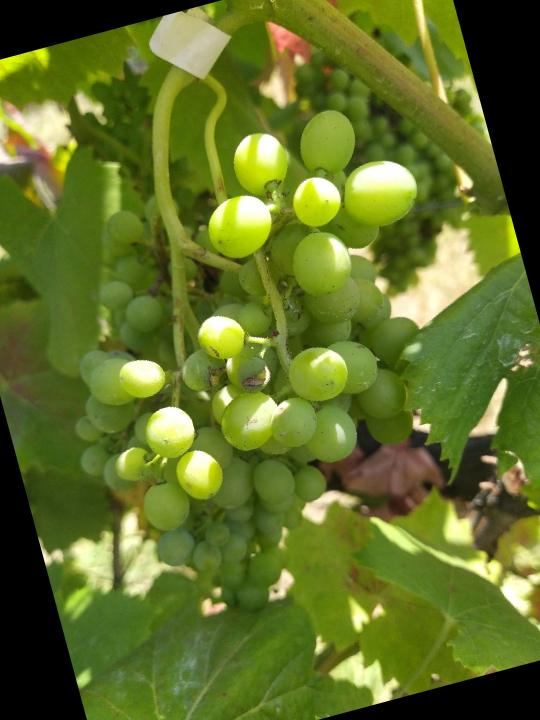grape: (7, 91, 514, 646)
